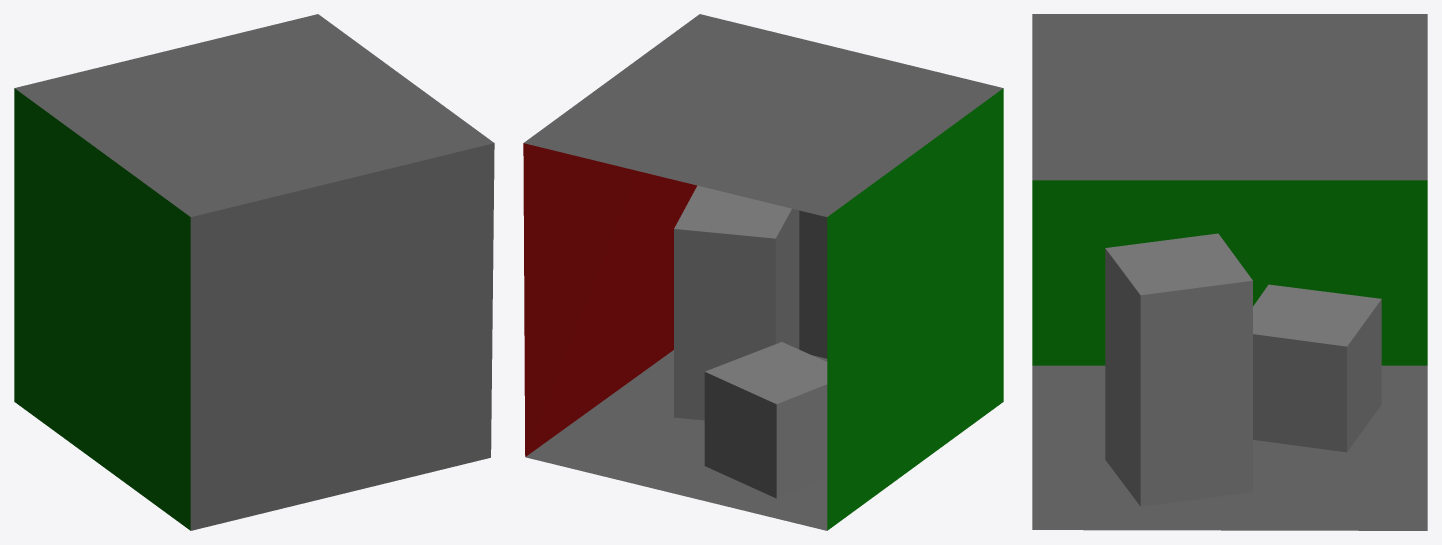
The model's file is cornell_box.obj.
3 renders of one model, left to right at view 1: azimuth 30°, elevation 25°; view 2: azimuth 150°, elevation 25°; view 3: azimuth 270°, elevation 25°, orthographic. The views are drawn at different scales.
Bounding box in the file's own units: 556 × 549 × 559.
